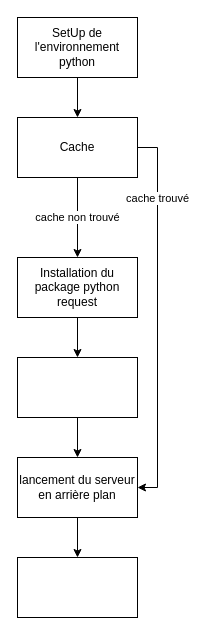
The diagram is 206 pixels wide and 635 high, and some of its shapes have lost their labels. The centre of each missing label's shape, as x and y in pixels:
"build du server" goes at point 77,387.
"lancement des tests fonctionnel" goes at point 77,587.
